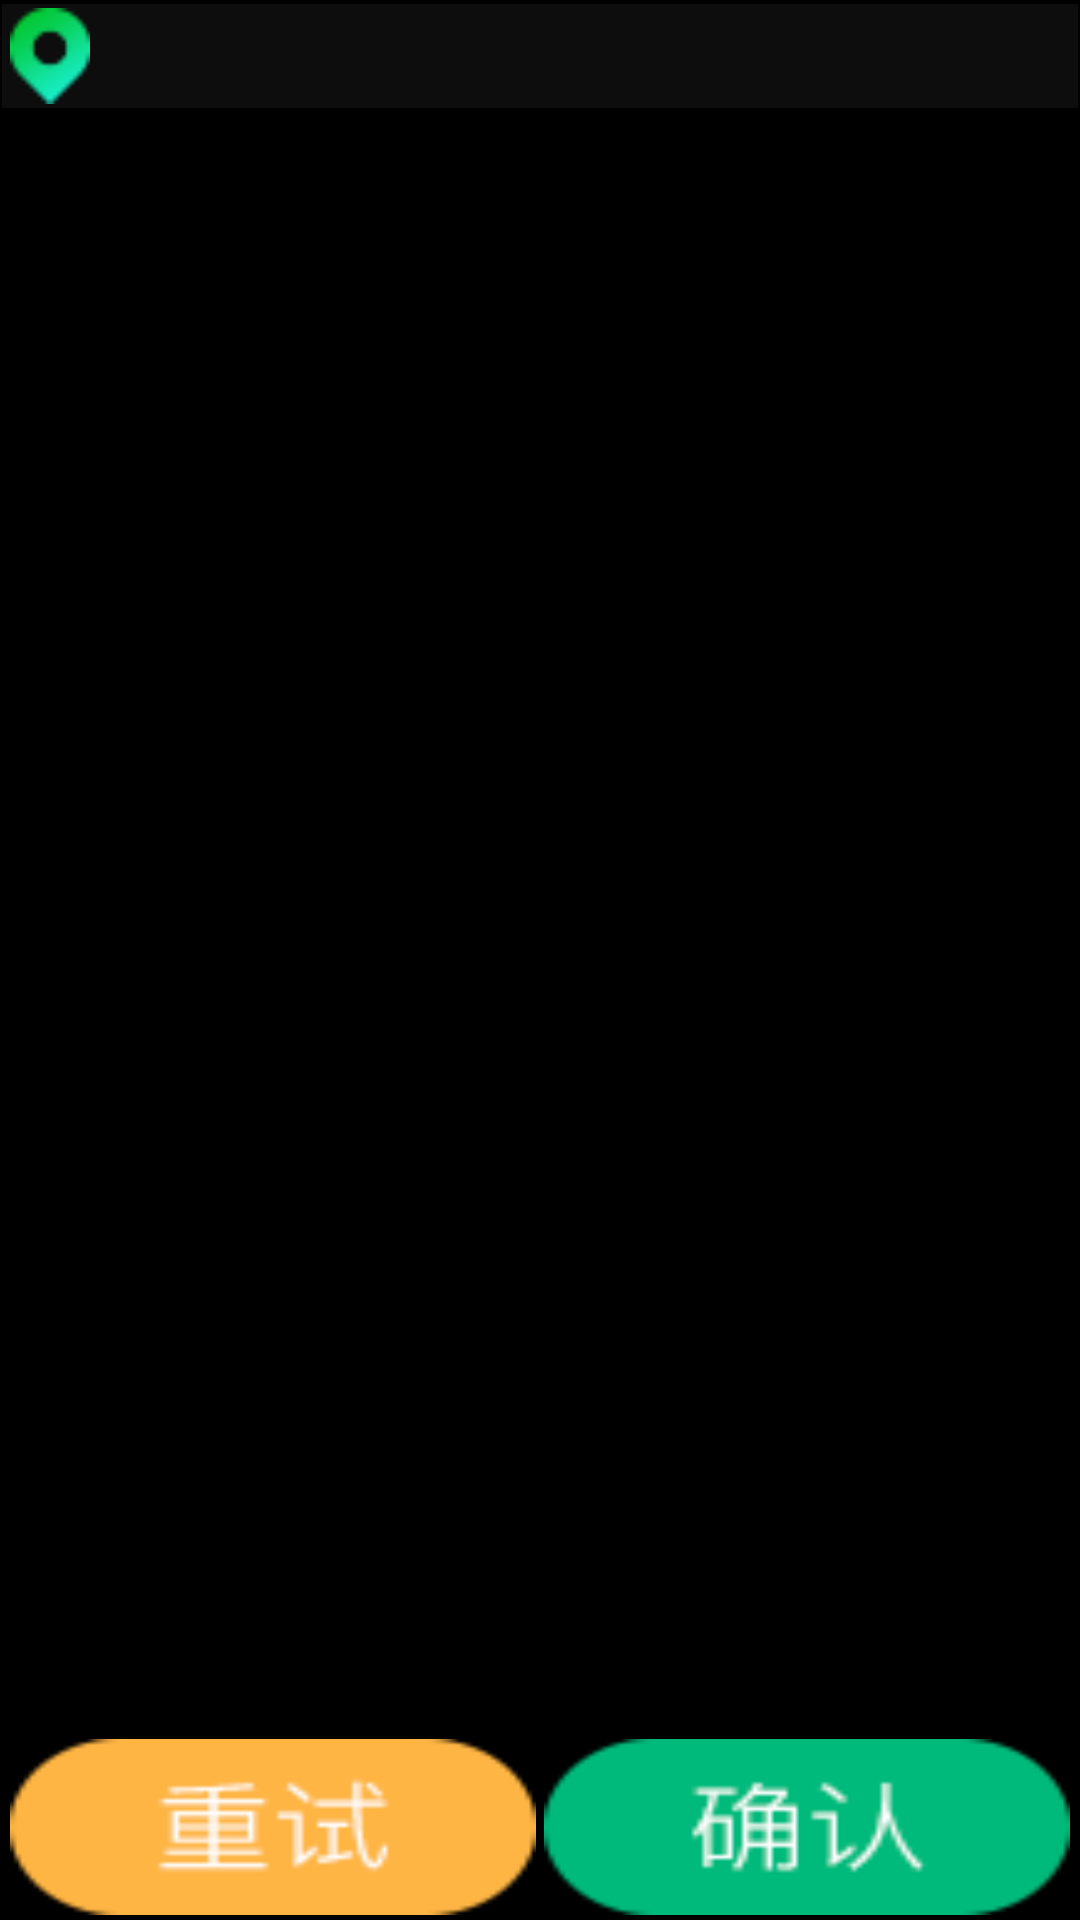

Icon bounding boxes for this 1080w x 1920h phone screenshot, format (left=x1, top=y1, right=x2, bottom=y2):
location: (left=10, top=8, right=90, bottom=104)
